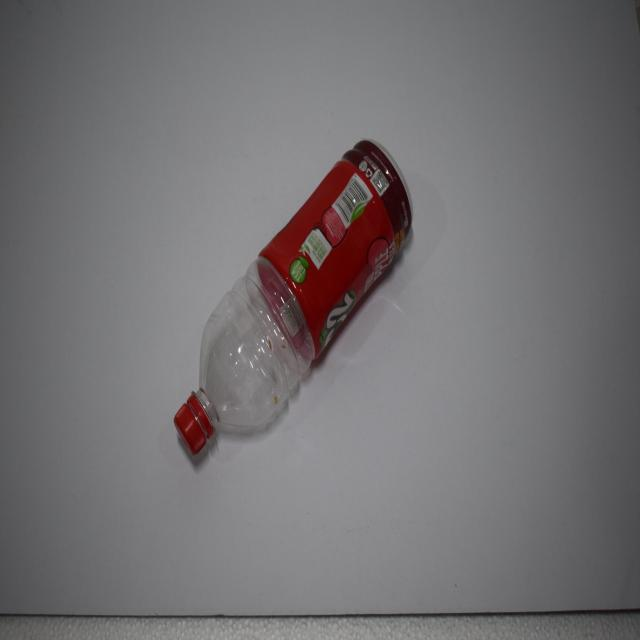bottle: (165, 124, 432, 487)
